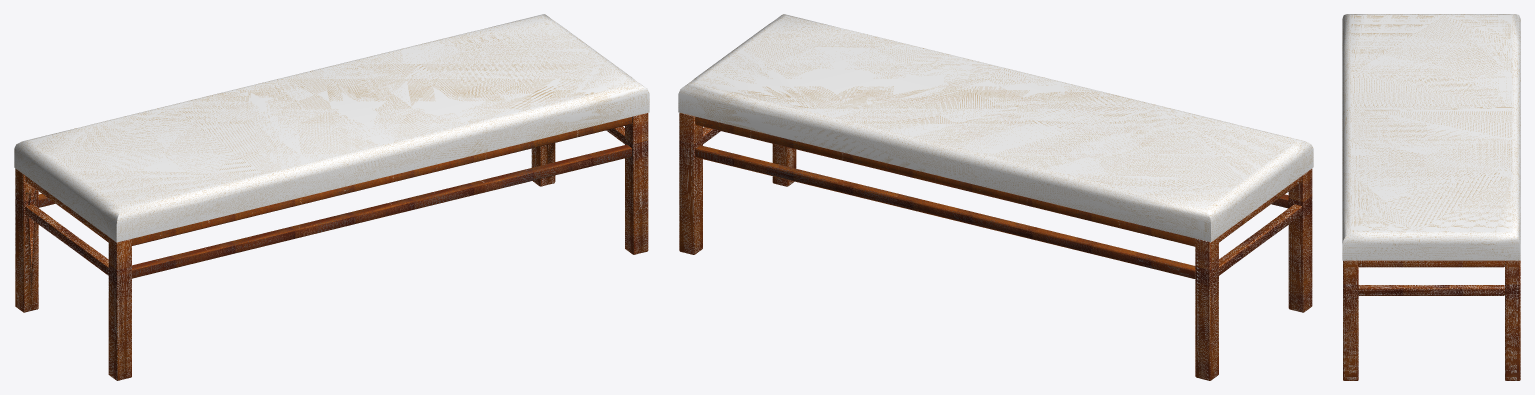
3 renders of one model, left to right at view 1: azimuth 30°, elevation 25°; view 2: azimuth 150°, elevation 25°; view 3: azimuth 270°, elevation 25°, orthographic. The views are drawn at different scales.
Parts seen in each view (by area): view 1: mesh7_mesh7-geometry, mesh4_mesh4-geometry, mesh5_mesh5-geometry, mesh3_mesh3-geometry, mesh2_mesh2-geometry, mesh1_mesh1-geometry; view 2: mesh7_mesh7-geometry, mesh3_mesh3-geometry, mesh6_mesh6-geometry, mesh1_mesh1-geometry, mesh4_mesh4-geometry, mesh2_mesh2-geometry; view 3: mesh7_mesh7-geometry, mesh1_mesh1-geometry, mesh2_mesh2-geometry.
Part boxes in pixels (<box>): mesh7_mesh7-geometry: <box>14,14,649,242</box>; mesh4_mesh4-geometry: <box>108,117,631,380</box>; mesh5_mesh5-geometry: <box>132,144,631,278</box>; mesh3_mesh3-geometry: <box>15,168,108,312</box>; mesh2_mesh2-geometry: <box>625,113,648,254</box>; mesh1_mesh1-geometry: <box>531,126,624,186</box>; mesh7_mesh7-geometry: <box>678,14,1313,242</box>; mesh3_mesh3-geometry: <box>695,116,1302,380</box>; mesh6_mesh6-geometry: <box>695,145,1195,278</box>; mesh1_mesh1-geometry: <box>679,113,720,254</box>; mesh4_mesh4-geometry: <box>1288,169,1312,312</box>; mesh2_mesh2-geometry: <box>772,144,796,186</box>; mesh7_mesh7-geometry: <box>1342,14,1520,260</box>; mesh1_mesh1-geometry: <box>1358,260,1520,380</box>; mesh2_mesh2-geometry: <box>1343,260,1358,380</box>.
Size of the model in its own units: 0.9124 by 0.2737 by 0.3041.
